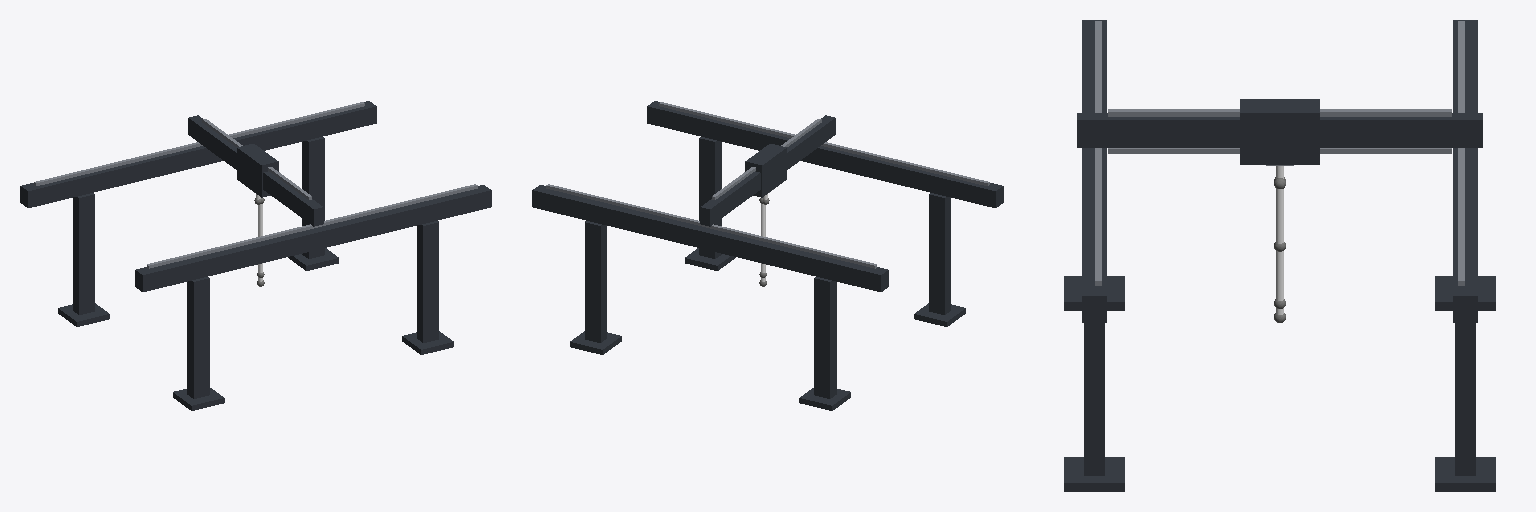
robot.urdf — paint_cell_8axis:
<?xml version='1.0' encoding='utf-8'?>
<robot name="paint_cell_8axis">
  <material name="cell_rail"><color rgba="0.55 0.57 0.60 1.0" /></material><material name="cell_frame"><color rgba="0.25 0.27 0.30 1.0" /></material><material name="black">
    <color rgba="0.0 0.0 0.0 1.0" />
  </material>
  <material name="white">
    <color rgba="1.0 1.0 1.0 1.0" />
  </material>
  <material name="orange">
    <color rgba="1.0 0.4 0.0 1.0" />
  </material>
  <material name="dr_gray">
    <color rgba="0.490 0.490 0.486 1.0" />
  </material>
  <material name="dr_white">
    <color rgba="0.941 0.941 0.941 1.0" />
  </material>
  <material name="dr_blue">
    <color rgba="0 0 0.15 1" />
  </material>
  <link name="base_link">
    <inertial>
      <mass value="3.635" />
      <origin xyz="4e-06   -0.001016     0.08181" />
      <inertia ixx="0.02216" ixy="5.8001e-06" ixz="6.1941e-06" iyy="0.024835" iyz="-5.3034e-05" izz="0.021063" />
    </inertial>
    <visual><origin xyz="0.000000 0.000000 0.097500" rpy="0.000000 0.000000 0.000000" /><geometry><cylinder length="0.195000" radius="0.035000" /></geometry><material name="dr_white" /></visual><visual><origin xyz="0.000000 0.000000 0.195000" rpy="0.000000 0.000000 0.000000" /><geometry><sphere radius="0.050000" /></geometry><material name="dr_gray" /></visual><visual><origin xyz="0.000000 0.000000 0.000000" rpy="0.000000 0.000000 0.000000" /><geometry><sphere radius="0.030000" /></geometry><material name="dr_gray" /></visual></link>
  
  <joint name="joint_1" type="revolute">
    <parent link="base_link" />
    <child link="link_1" />
    <origin rpy="0 0 0" xyz="0 0 0.195" />
    <axis xyz="0 0 1" />
    <limit effort="411" lower="-6.2832" upper="6.2832" velocity="3.1416" />
    <dynamics friction="0" />
  </joint>
  <link name="link_1">
    <inertial>
      <mass value="7.863" />
      <origin xyz="4.4e-05    0.029982    -0.01112" />
      <inertia ixx="0.045839" ixy="1.2759e-05" ixz="-3.6168e-05" iyy="0.032913" iyz="-0.0029965" izz="0.044399" />
    </inertial>
    <visual><origin xyz="0.000000 0.019500 0.000000" rpy="0.000000 1.570796 1.570796" /><geometry><cylinder length="0.039000" radius="0.035000" /></geometry><material name="dr_white" /></visual><visual><origin xyz="0.000000 0.039000 0.000000" rpy="0.000000 0.000000 0.000000" /><geometry><sphere radius="0.050000" /></geometry><material name="dr_gray" /></visual><visual><origin xyz="0.000000 0.000000 0.000000" rpy="0.000000 0.000000 0.000000" /><geometry><sphere radius="0.030000" /></geometry><material name="dr_gray" /></visual></link>
  
  <joint name="joint_2" type="revolute">
    <parent link="link_1" />
    <child link="link_2" />
    <origin rpy="0 -1.571 -1.571" xyz="0 0.039 0" />
    <axis xyz="0 0 1" />
    <limit effort="411" lower="-6.2832" upper="6.2832" velocity="3.1416" />
    <dynamics friction="0" />
  </joint>
  <link name="link_2">
    <inertial>
      <mass value="10.985" />
      <origin xyz="0.19748    0.001426     0.13191" />
      <inertia ixx="0.04446" ixy="-0.0049948" ixz="-0.010992" iyy="0.67642" iyz="-2.8483e-05" izz="0.67428" />
    </inertial>
    <visual><origin xyz="0.280000 0.000000 0.000000" rpy="0.000000 1.570796 0.000000" /><geometry><cylinder length="0.560000" radius="0.035000" /></geometry><material name="dr_white" /></visual><visual><origin xyz="0.560000 0.000000 0.000000" rpy="0.000000 0.000000 0.000000" /><geometry><sphere radius="0.050000" /></geometry><material name="dr_gray" /></visual><visual><origin xyz="0.000000 0.000000 0.000000" rpy="0.000000 0.000000 0.000000" /><geometry><sphere radius="0.030000" /></geometry><material name="dr_gray" /></visual></link>
  
  <joint name="joint_3" type="revolute">
    <parent link="link_2" />
    <child link="link_3" />
    <origin rpy="0 0 1.571" xyz="0.56 0 0" />
    <axis xyz="0 0 1" />
    <limit effort="194" lower="-2.7925" upper="2.7925" velocity="3.1416" />
    <dynamics friction="0" />
  </joint>
  <link name="link_3">
    <inertial>
      <mass value="2.881" />
      <origin xyz="8.5e-05   -0.002513    0.032058" />
      <inertia ixx="0.012756" ixy="-5.4257e-06" ixz="1.6402e-05" iyy="0.011416" iyz="-0.0001989" izz="0.0080652" />
    </inertial>
    <visual><origin xyz="0.000000 -0.258000 0.000000" rpy="0.000000 1.570796 -1.570796" /><geometry><cylinder length="0.516000" radius="0.035000" /></geometry><material name="dr_white" /></visual><visual><origin xyz="0.000000 -0.516000 0.000000" rpy="0.000000 0.000000 0.000000" /><geometry><sphere radius="0.050000" /></geometry><material name="dr_gray" /></visual><visual><origin xyz="0.000000 0.000000 0.000000" rpy="0.000000 0.000000 0.000000" /><geometry><sphere radius="0.030000" /></geometry><material name="dr_gray" /></visual></link>
  
  <joint name="joint_4" type="revolute">
    <parent link="link_3" />
    <child link="link_4" />
    <origin rpy="1.571 0 0" xyz="0 -0.516 0" />
    <axis xyz="0 0 1" />
    <limit effort="50" lower="-6.2832" upper="6.2832" velocity="6.2832" />
    <dynamics friction="0" />
  </joint>
  <link name="link_4">
    <inertial>
      <mass value="3.273" />
      <origin xyz="-9.6e-05    0.085314    -0.13975" />
      <inertia ixx="0.12246" ixy="2.3905e-05" ixz="2.5022e-05" iyy="0.11307" iyz="-0.027995" izz="0.017186" />
    </inertial>
    <visual><origin xyz="0.000000 0.000000 0.000000" rpy="0.000000 0.000000 0.000000" /><geometry><sphere radius="0.030000" /></geometry><material name="dr_gray" /></visual></link>
  
  <joint name="joint_5" type="revolute">
    <parent link="link_4" />
    <child link="link_5" />
    <origin rpy="-1.571 0 0" xyz="0 0 0" />
    <axis xyz="0 0 1" />
    <limit effort="50" lower="-6.2832" upper="6.2832" velocity="6.2832" />
    <dynamics friction="0" />
  </joint>
  <link name="link_5">
    <inertial>
      <mass value="2.141" />
      <origin xyz="0.000109   -0.003286     0.01477" />
      <inertia ixx="0.013145" ixy="-4.7132e-06" ixz="8.5804e-06" iyy="0.0073072" iyz="-5.999e-05" izz="0.0090476" />
    </inertial>
    <visual><origin xyz="0.000000 -0.062000 0.000000" rpy="0.000000 1.570796 -1.570796" /><geometry><cylinder length="0.124000" radius="0.035000" /></geometry><material name="dr_white" /></visual><visual><origin xyz="0.000000 -0.124000 0.000000" rpy="0.000000 0.000000 0.000000" /><geometry><sphere radius="0.050000" /></geometry><material name="dr_gray" /></visual><visual><origin xyz="0.000000 0.000000 0.000000" rpy="0.000000 0.000000 0.000000" /><geometry><sphere radius="0.030000" /></geometry><material name="dr_gray" /></visual></link>
  
  <joint name="joint_6" type="revolute">
    <parent link="link_5" />
    <child link="link_6" />
    <origin rpy="1.571 0 0" xyz="0 -0.124 0" />
    <axis xyz="0 0 1" />
    <limit effort="50" lower="-6.2832" upper="6.2832" velocity="6.2832" />
    <dynamics friction="0" />
  </joint>
  <link name="link_6">
    <inertial>
      <mass value="0.784" />
      <origin xyz="-1.9e-05      -6e-06    -0.05227" />
      <inertia ixx="0.0067403" ixy="5.2373e-06" ixz="2.4957e-06" iyy="0.0048015" iyz="8.3671e-06" izz="0.0059696" />
    </inertial>
    <visual><origin xyz="0.000000 0.000000 0.000000" rpy="0.000000 0.000000 0.000000" /><geometry><sphere radius="0.030000" /></geometry><material name="dr_gray" /></visual></link>
<link name="world_base"><visual><origin xyz="-1.744000 -1.509500 0.039500" rpy="0.000000 0.000000 0.000000" /><geometry><box size="0.500000 0.500000 0.079000" /></geometry><material name="cell_frame" /></visual><visual><origin xyz="-1.744000 -1.509500 0.930000" rpy="0.000000 0.000000 0.000000" /><geometry><box size="0.244000 0.175000 1.702000" /></geometry><material name="cell_frame" /></visual><visual><origin xyz="-1.744000 1.509500 0.039500" rpy="0.000000 0.000000 0.000000" /><geometry><box size="0.500000 0.500000 0.079000" /></geometry><material name="cell_frame" /></visual><visual><origin xyz="-1.744000 1.509500 0.930000" rpy="0.000000 0.000000 0.000000" /><geometry><box size="0.244000 0.175000 1.702000" /></geometry><material name="cell_frame" /></visual><visual><origin xyz="1.744000 -1.509500 0.039500" rpy="0.000000 0.000000 0.000000" /><geometry><box size="0.500000 0.500000 0.079000" /></geometry><material name="cell_frame" /></visual><visual><origin xyz="1.744000 -1.509500 0.930000" rpy="0.000000 0.000000 0.000000" /><geometry><box size="0.244000 0.175000 1.702000" /></geometry><material name="cell_frame" /></visual><visual><origin xyz="1.744000 1.509500 0.039500" rpy="0.000000 0.000000 0.000000" /><geometry><box size="0.500000 0.500000 0.079000" /></geometry><material name="cell_frame" /></visual><visual><origin xyz="1.744000 1.509500 0.930000" rpy="0.000000 0.000000 0.000000" /><geometry><box size="0.244000 0.175000 1.702000" /></geometry><material name="cell_frame" /></visual><visual><origin xyz="0.000000 -1.509500 1.942000" rpy="0.000000 0.000000 0.000000" /><geometry><box size="5.300000 0.200000 0.250000" /></geometry><material name="cell_frame" /></visual><visual><origin xyz="0.000000 -1.479500 2.107000" rpy="0.000000 0.000000 0.000000" /><geometry><box size="5.000000 0.053000 0.044000" /></geometry><material name="cell_rail" /></visual><visual><origin xyz="0.000000 1.509500 1.942000" rpy="0.000000 0.000000 0.000000" /><geometry><box size="5.300000 0.200000 0.250000" /></geometry><material name="cell_frame" /></visual><visual><origin xyz="0.000000 1.479500 2.107000" rpy="0.000000 0.000000 0.000000" /><geometry><box size="5.000000 0.053000 0.044000" /></geometry><material name="cell_rail" /></visual><collision><origin xyz="-1.744000 -1.509500 0.039500" rpy="0.000000 0.000000 0.000000" /><geometry><box size="0.500000 0.500000 0.079000" /></geometry></collision><collision><origin xyz="-1.744000 -1.509500 0.930000" rpy="0.000000 0.000000 0.000000" /><geometry><box size="0.244000 0.175000 1.702000" /></geometry></collision><collision><origin xyz="-1.744000 1.509500 0.039500" rpy="0.000000 0.000000 0.000000" /><geometry><box size="0.500000 0.500000 0.079000" /></geometry></collision><collision><origin xyz="-1.744000 1.509500 0.930000" rpy="0.000000 0.000000 0.000000" /><geometry><box size="0.244000 0.175000 1.702000" /></geometry></collision><collision><origin xyz="1.744000 -1.509500 0.039500" rpy="0.000000 0.000000 0.000000" /><geometry><box size="0.500000 0.500000 0.079000" /></geometry></collision><collision><origin xyz="1.744000 -1.509500 0.930000" rpy="0.000000 0.000000 0.000000" /><geometry><box size="0.244000 0.175000 1.702000" /></geometry></collision><collision><origin xyz="1.744000 1.509500 0.039500" rpy="0.000000 0.000000 0.000000" /><geometry><box size="0.500000 0.500000 0.079000" /></geometry></collision><collision><origin xyz="1.744000 1.509500 0.930000" rpy="0.000000 0.000000 0.000000" /><geometry><box size="0.244000 0.175000 1.702000" /></geometry></collision><collision><origin xyz="0.000000 -1.509500 1.942000" rpy="0.000000 0.000000 0.000000" /><geometry><box size="5.300000 0.200000 0.250000" /></geometry></collision><collision><origin xyz="0.000000 -1.479500 2.107000" rpy="0.000000 0.000000 0.000000" /><geometry><box size="5.000000 0.053000 0.044000" /></geometry></collision><collision><origin xyz="0.000000 1.509500 1.942000" rpy="0.000000 0.000000 0.000000" /><geometry><box size="5.300000 0.200000 0.250000" /></geometry></collision><collision><origin xyz="0.000000 1.479500 2.107000" rpy="0.000000 0.000000 0.000000" /><geometry><box size="5.000000 0.053000 0.044000" /></geometry></collision></link><link name="gantry_x_link"><inertial><mass value="1.0" /><origin xyz="0.000000 0.000000 0.000000" rpy="0.000000 0.000000 0.000000" /><inertia ixx="0.01" ixy="0" ixz="0" iyy="0.01" iyz="0" izz="0.01" /></inertial><visual><origin xyz="0.000000 0.000000 0.000000" rpy="0.000000 0.000000 0.000000" /><geometry><box size="0.150000 3.300000 0.250000" /></geometry><material name="cell_frame" /></visual><visual><origin xyz="0.018500 0.000000 -0.165000" rpy="0.000000 0.000000 0.000000" /><geometry><box size="0.053000 2.800000 0.044000" /></geometry><material name="cell_rail" /></visual><visual><origin xyz="0.018500 0.000000 0.165000" rpy="0.000000 0.000000 0.000000" /><geometry><box size="0.053000 2.800000 0.044000" /></geometry><material name="cell_rail" /></visual><collision><origin xyz="0.000000 0.000000 0.000000" rpy="0.000000 0.000000 0.000000" /><geometry><box size="0.150000 3.300000 0.250000" /></geometry></collision><collision><origin xyz="0.018500 0.000000 -0.165000" rpy="0.000000 0.000000 0.000000" /><geometry><box size="0.053000 2.800000 0.044000" /></geometry></collision><collision><origin xyz="0.018500 0.000000 0.165000" rpy="0.000000 0.000000 0.000000" /><geometry><box size="0.053000 2.800000 0.044000" /></geometry></collision></link><joint name="gantry_x" type="prismatic"><parent link="world_base" /><child link="gantry_x_link" /><origin xyz="0.000000 0.000000 2.314000" rpy="0.000000 0.000000 0.000000" /><axis xyz="1 0 0" /><limit effort="2000" lower="-2.196000" upper="2.196000" velocity="1.5" /></joint><link name="gantry_y_link"><inertial><mass value="1.0" /><origin xyz="0.000000 0.000000 0.000000" rpy="0.000000 0.000000 0.000000" /><inertia ixx="0.01" ixy="0" ixz="0" iyy="0.01" iyz="0" izz="0.01" /></inertial><visual><origin xyz="0.000000 0.000000 0.000000" rpy="0.000000 0.000000 0.000000" /><geometry><box size="0.257000 0.650000 0.466000" /></geometry><material name="cell_frame" /></visual><visual><origin xyz="0.000000 0.000000 -0.243000" rpy="0.000000 0.000000 0.000000" /><geometry><box size="0.220000 0.220000 0.020000" /></geometry><material name="cell_rail" /></visual><collision><origin xyz="0.000000 0.000000 0.000000" rpy="0.000000 0.000000 0.000000" /><geometry><box size="0.257000 0.650000 0.466000" /></geometry></collision><collision><origin xyz="0.000000 0.000000 -0.243000" rpy="0.000000 0.000000 0.000000" /><geometry><box size="0.220000 0.220000 0.020000" /></geometry></collision></link><joint name="gantry_y" type="prismatic"><parent link="gantry_x_link" /><child link="gantry_y_link" /><origin xyz="0.028000 0.000000 0.000000" rpy="0.000000 0.000000 0.000000" /><axis xyz="0 1 0" /><limit effort="2000" lower="-1.071000" upper="1.071000" velocity="1.5" /></joint><joint name="gantry_to_arm" type="fixed"><parent link="gantry_y_link" /><child link="base_link" /><origin xyz="0.006036 0.000015 -0.248000" rpy="3.141593 0.000000 1.570796" /></joint>
  <!-- 스프레이건 툴 어셈블리 (Spraygun_full_assy.stp에서 변환, 시각화 전용).
       메시는 link_6 프레임: TCV1 툴체인저 접속면 중심=원점, +z=플랜지 바깥. 단위 m. -->
  <link name="tool_assy">
    <visual><origin xyz="0 0 0" rpy="0 0 0" /><geometry><mesh filename="package://paint_viz/urdf/tool_assy.stl" /></geometry><material name="dr_gray" /></visual>
  </link>
  <joint name="flange_to_tool" type="fixed"><parent link="link_6" /><child link="tool_assy" /><origin xyz="0 0 0" rpy="0 0 0" /></joint>
  <!-- 스프레이건: 툴의 T-block Ø24 수직 보어에 손잡이 튜브가 물리고, 건 본체·노즐은 툴 끝(+Z_assy, 플랜지에서 먼 쪽)에 있다.
       spray_gun 프레임 = 노즐 팁 원점(link_6 기준 +z 0.297 m), +z=분사 방향. 아래 tcp 프레임이 이를 TCP 로 노출한다. -->
  <link name="spray_gun">
    <visual><origin xyz="0 0 0" rpy="0 0 0" /><geometry><mesh filename="package://paint_viz/urdf/spray_gun.stl" /></geometry><material name="dr_gray" /></visual>
  </link>
  <joint name="tool_to_gun" type="fixed"><parent link="link_6" /><child link="spray_gun" /><origin xyz="0.129200 -0.060700 0.296900" rpy="0 0 0" /></joint>
  <!-- TCP = 노즐 팁. spray_gun 원점(메시 최상단 정점 (0,0,0))과 같은 곳, +z=분사 방향.
       모든 IK/NLP/stitch/재생의 기본 tcp-frame 'auto' 가 이 프레임을 먼저 고른다. -->
  <link name="tcp" /><joint name="spray_gun_to_tcp" type="fixed"><parent link="spray_gun" /><child link="tcp" /><origin xyz="0 0 0" rpy="0 0 0" /></joint>
</robot>

--- What the picture shows (computed from the rendered views, not written in the file) ---
The picture shows the robot from 3 angles, left to right: view 1: azimuth 30°, elevation 25°; view 2: azimuth 150°, elevation 25°; view 3: azimuth 270°, elevation 25°; orthographic projection.
Robot: paint_cell_8axis — 13 links, 12 joints (6 revolute, 2 prismatic, 4 fixed); root link world_base; default pose: all joints at 0.
Links seen in each view (by area): view 1: world_base, gantry_x_link, gantry_y_link; view 2: world_base, gantry_x_link, gantry_y_link; view 3: world_base, gantry_x_link, gantry_y_link, link_2.
Link boxes in pixels (x1,y1,x2,y2): world_base: (20,101,491,410); gantry_x_link: (188,115,323,226); gantry_y_link: (237,144,278,197); world_base: (532,101,1003,410); gantry_x_link: (700,115,835,226); gantry_y_link: (745,144,786,197); world_base: (1064,20,1495,491); gantry_x_link: (1077,109,1482,153); gantry_y_link: (1240,99,1319,165); link_2: (1274,189,1285,251).
Size in the robot's own frame: 5.3 by 3.52 by 2.55 metres.
0 mesh visuals loaded from 2 distinct referenced files (none loaded); not drawn: 2 (reference not matched to a file when rendering).
